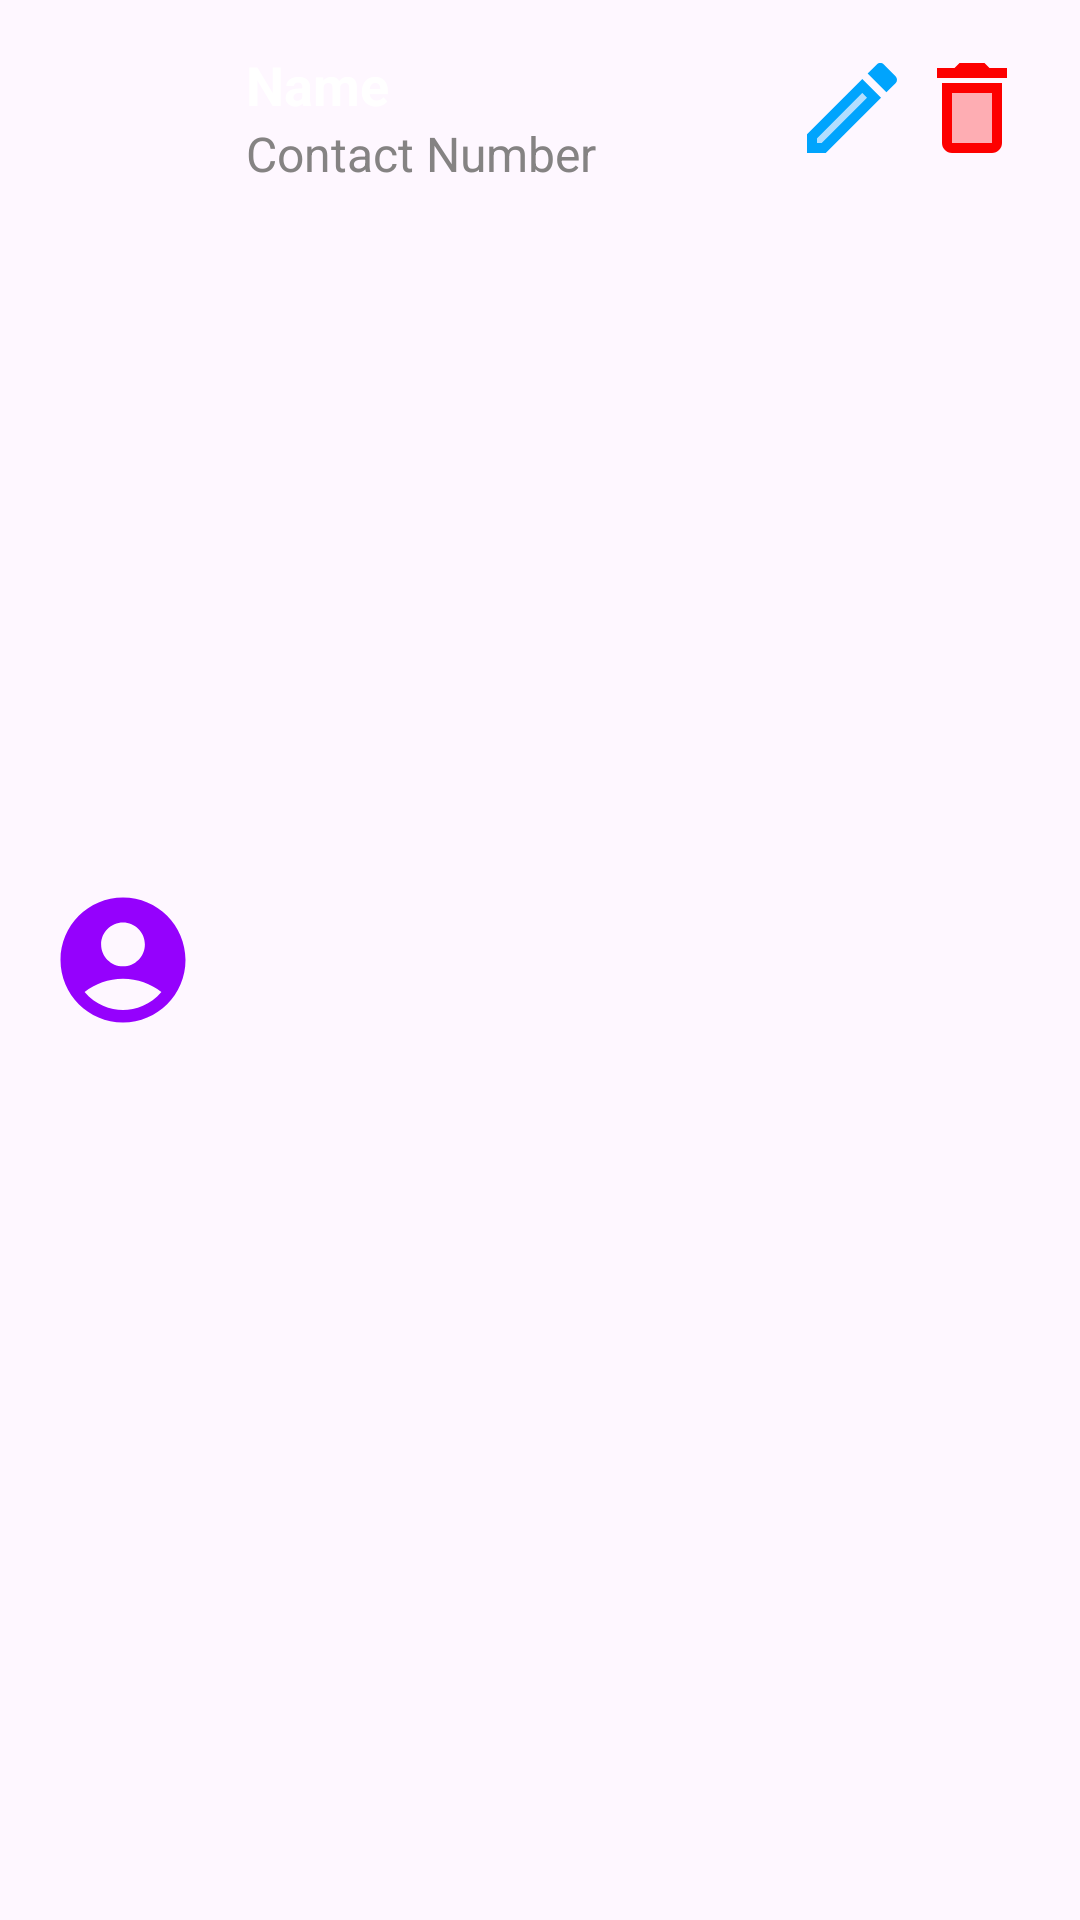

Point at icon controls on the screen. Image size 1080w x 1920h, points as point (x, y).
delete: point (972, 108)
edit: point (852, 108)
user: point (123, 960)
